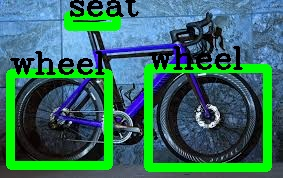seat: (68, 15, 116, 26)
wheel: (148, 68, 267, 167), (10, 73, 108, 165)
